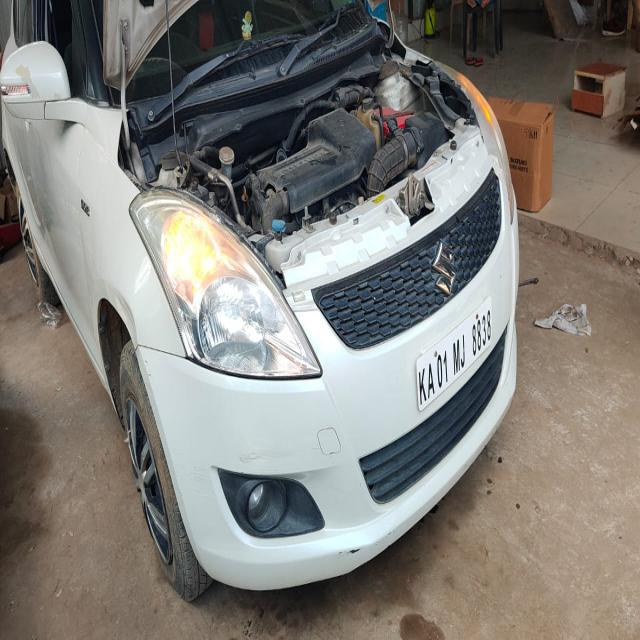front-bumper-dent: (171, 360, 372, 596)
